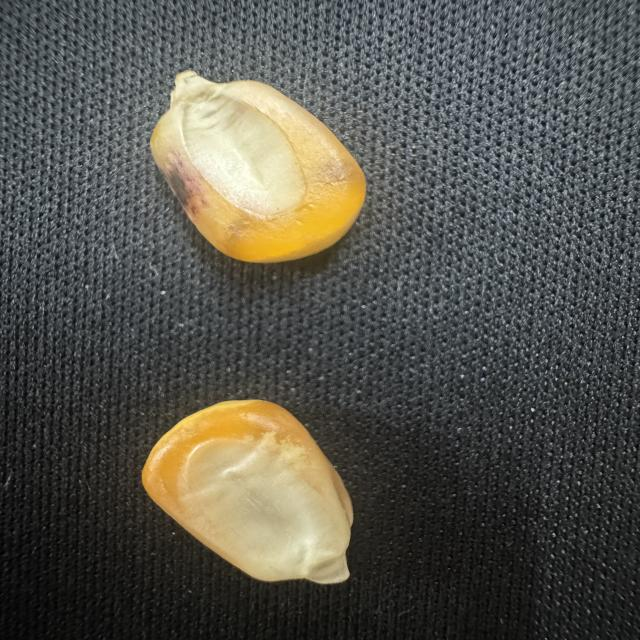Bad-Seed: (134, 64, 375, 278)
Good-Seed: (132, 388, 363, 608)
